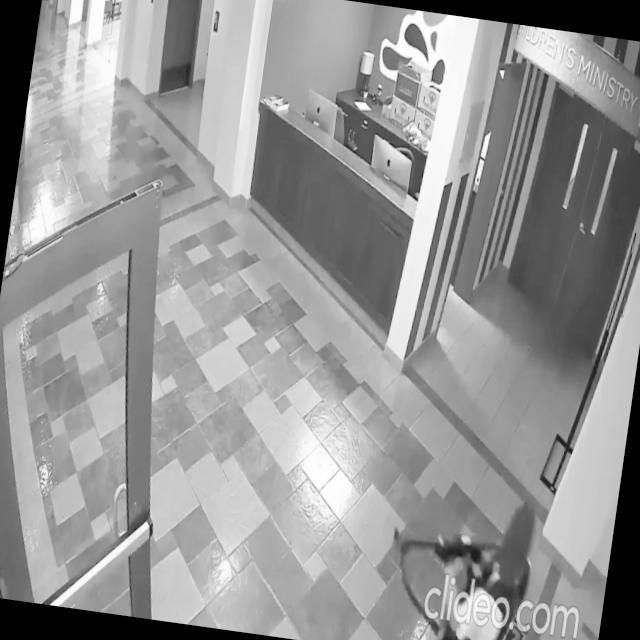gun: (392, 519, 508, 572)
person with a gun: (379, 483, 543, 640)
